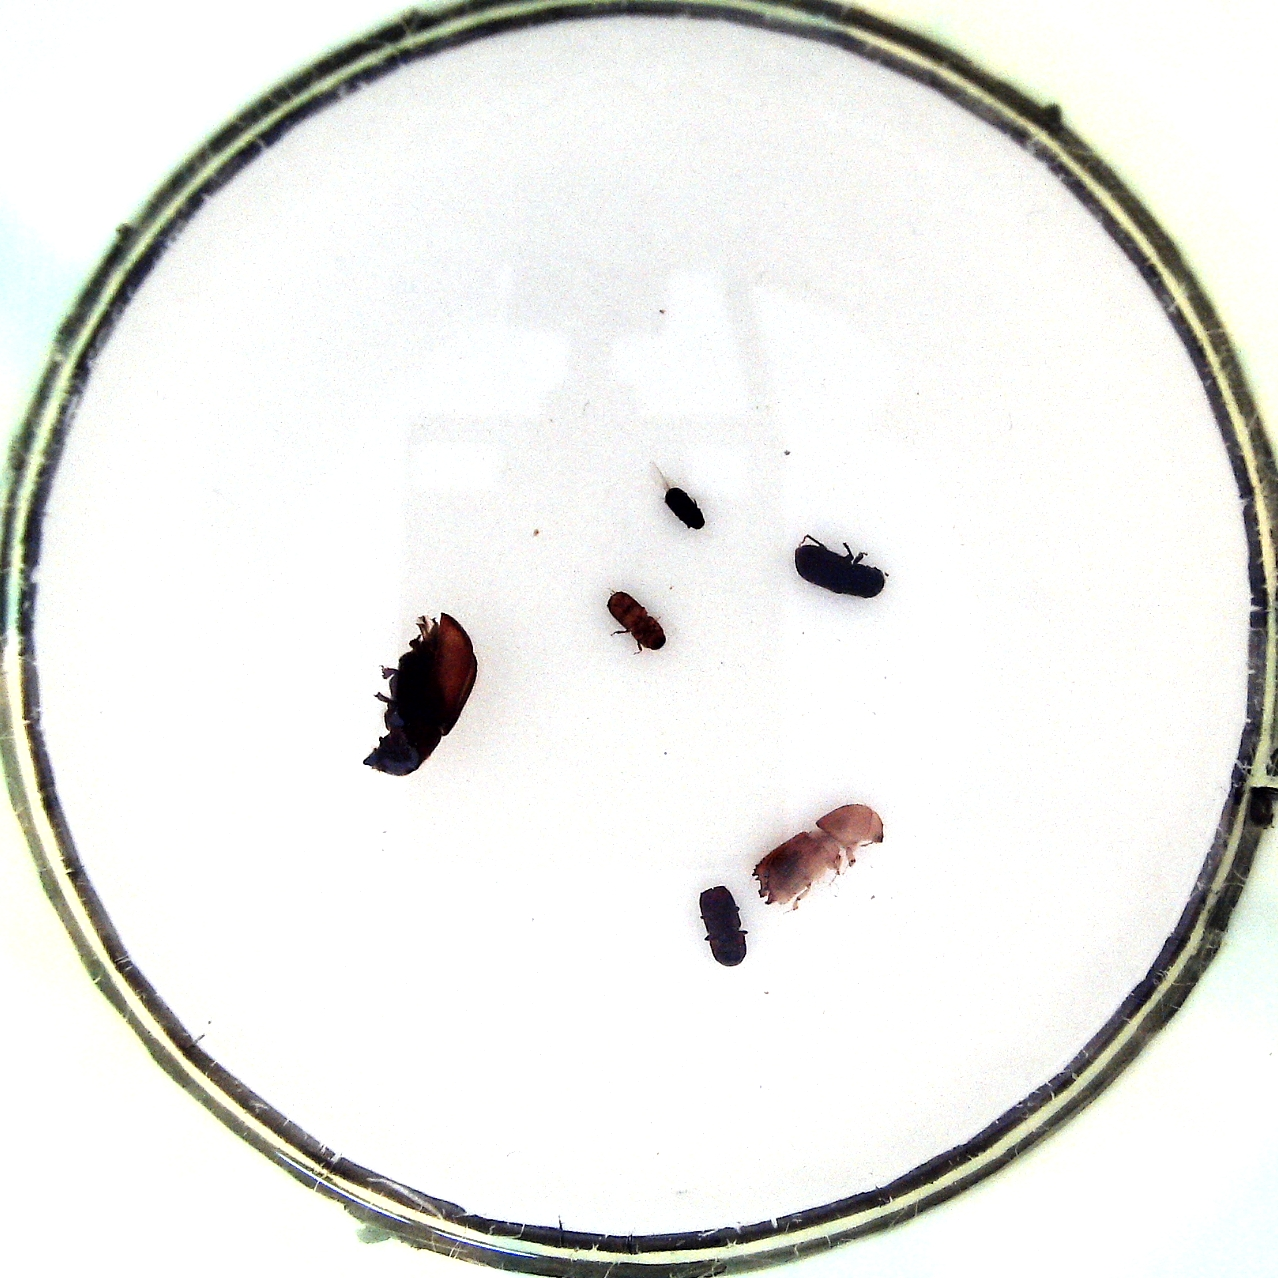Boerner: (751, 802, 889, 911)
Leconte: (360, 610, 483, 781)
Linnaeus: (696, 884, 755, 973)
acuminatus: (597, 586, 671, 657)
armandi: (789, 530, 889, 602)
coleoptera: (658, 476, 710, 530)
